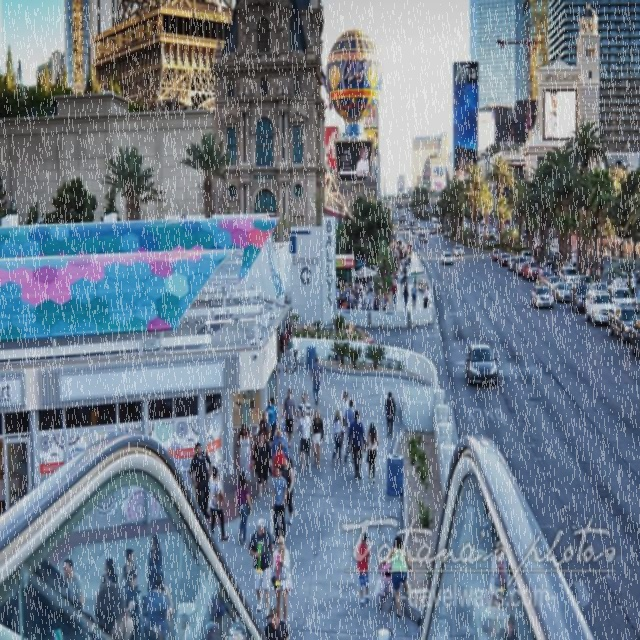pessoa: (476, 490, 538, 638), (175, 564, 252, 639), (379, 534, 414, 621), (29, 598, 100, 639), (247, 518, 274, 620), (93, 582, 136, 639), (334, 270, 390, 312), (272, 533, 294, 632), (144, 574, 176, 639), (540, 90, 576, 141), (189, 441, 212, 519), (207, 465, 230, 541), (346, 408, 366, 482), (252, 430, 273, 500), (355, 531, 373, 609), (278, 454, 296, 530), (234, 471, 252, 547), (271, 464, 288, 544), (61, 558, 85, 612), (234, 423, 254, 487), (296, 406, 314, 474), (383, 230, 414, 269), (344, 136, 372, 178), (146, 534, 165, 594), (11, 442, 30, 502), (362, 421, 380, 484), (280, 388, 298, 448), (330, 408, 346, 466), (264, 606, 290, 639), (121, 570, 141, 612), (311, 407, 324, 470), (119, 546, 138, 588), (595, 235, 629, 258), (270, 426, 290, 464), (230, 381, 256, 410), (265, 396, 281, 442), (99, 556, 120, 591), (310, 356, 323, 406), (86, 400, 110, 427), (282, 330, 296, 376), (384, 391, 397, 440), (272, 441, 286, 478), (296, 392, 313, 422), (343, 398, 356, 435), (340, 390, 350, 438), (250, 420, 270, 442), (290, 331, 300, 373), (582, 262, 604, 280), (203, 393, 219, 415), (280, 324, 291, 354), (262, 410, 272, 441), (411, 282, 418, 310), (402, 284, 409, 312), (422, 286, 430, 310), (391, 280, 398, 307), (471, 352, 492, 360), (570, 259, 580, 271), (412, 270, 417, 292), (392, 267, 401, 278), (434, 223, 441, 234)
